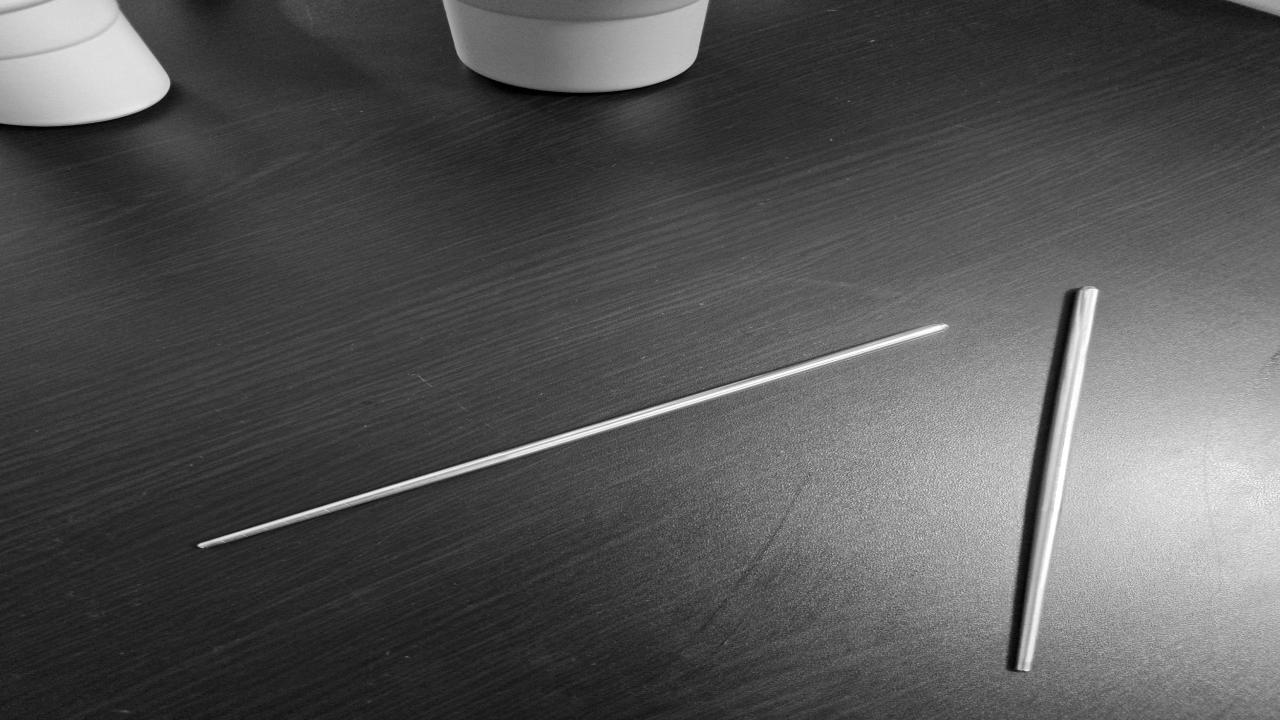chopstick: (189, 315, 958, 555), (1006, 284, 1102, 676)
